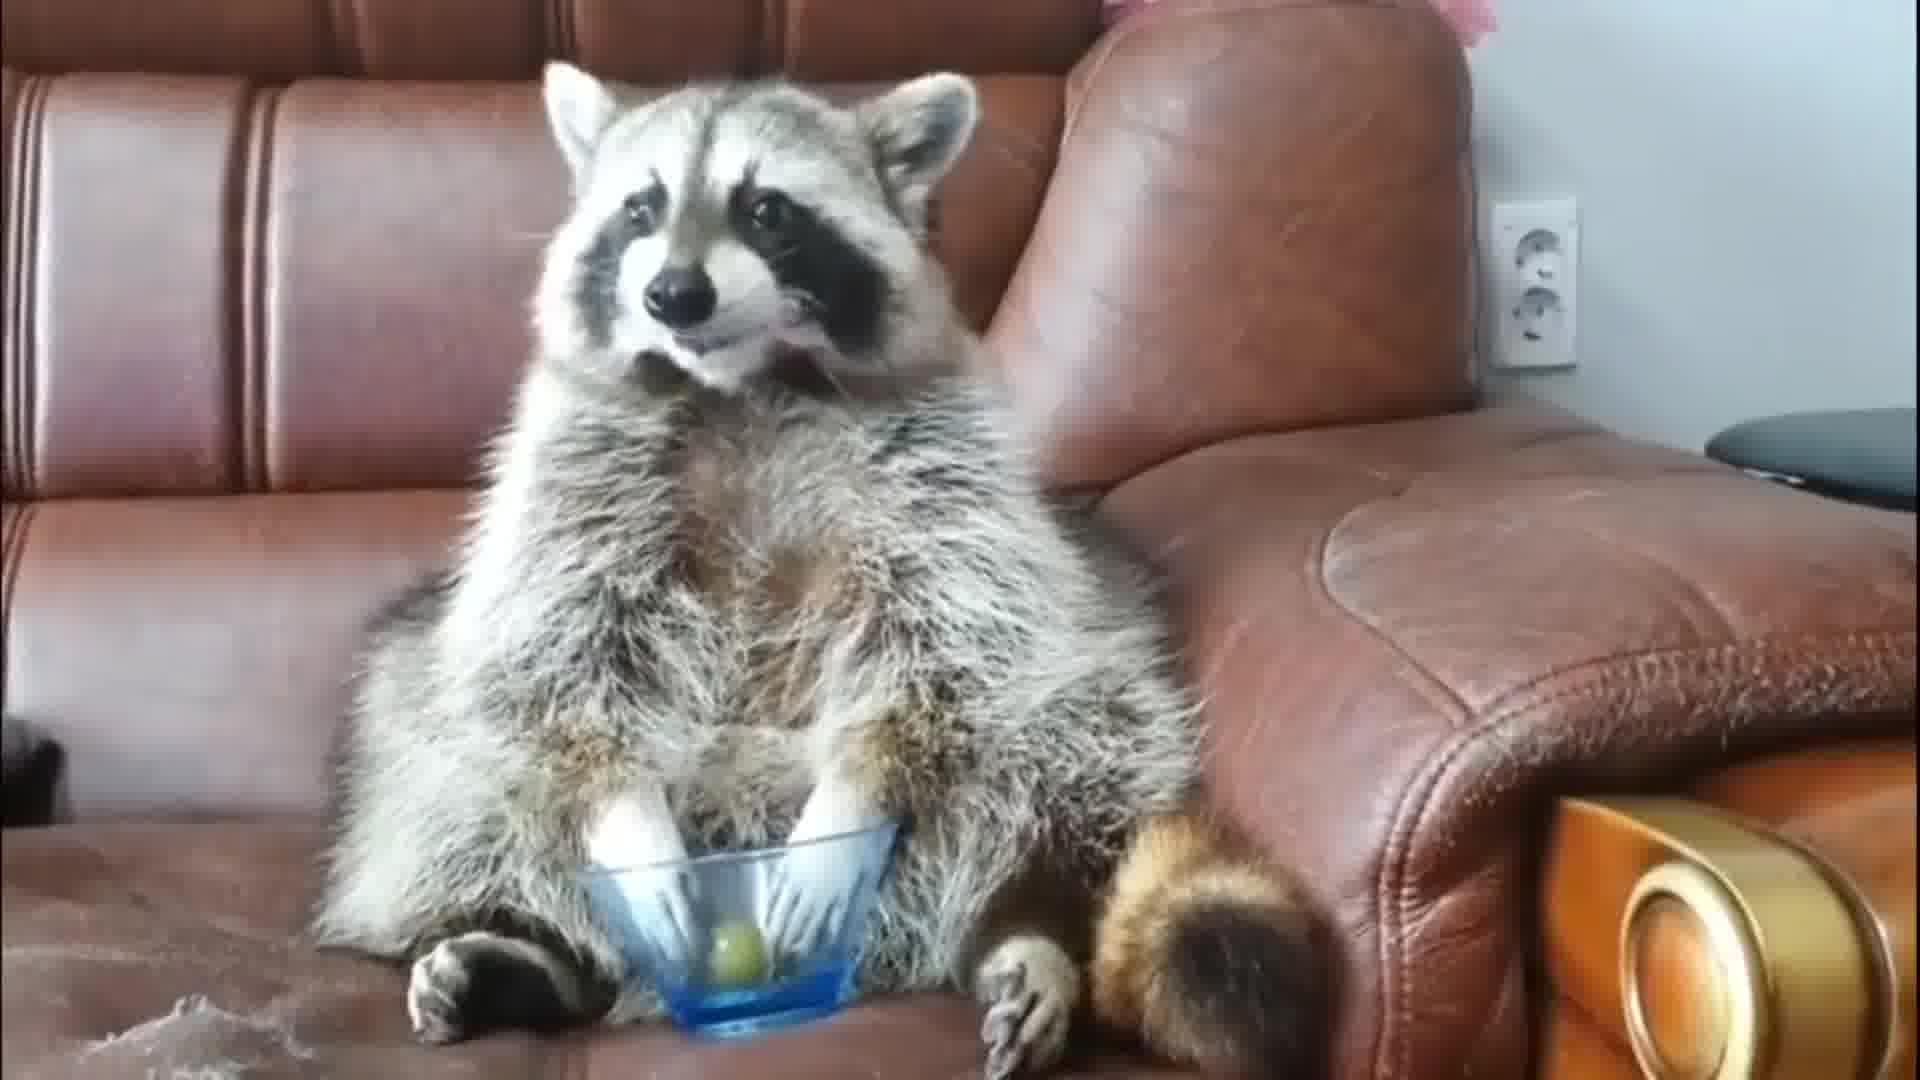raccoon: (316, 58, 1328, 1080)
